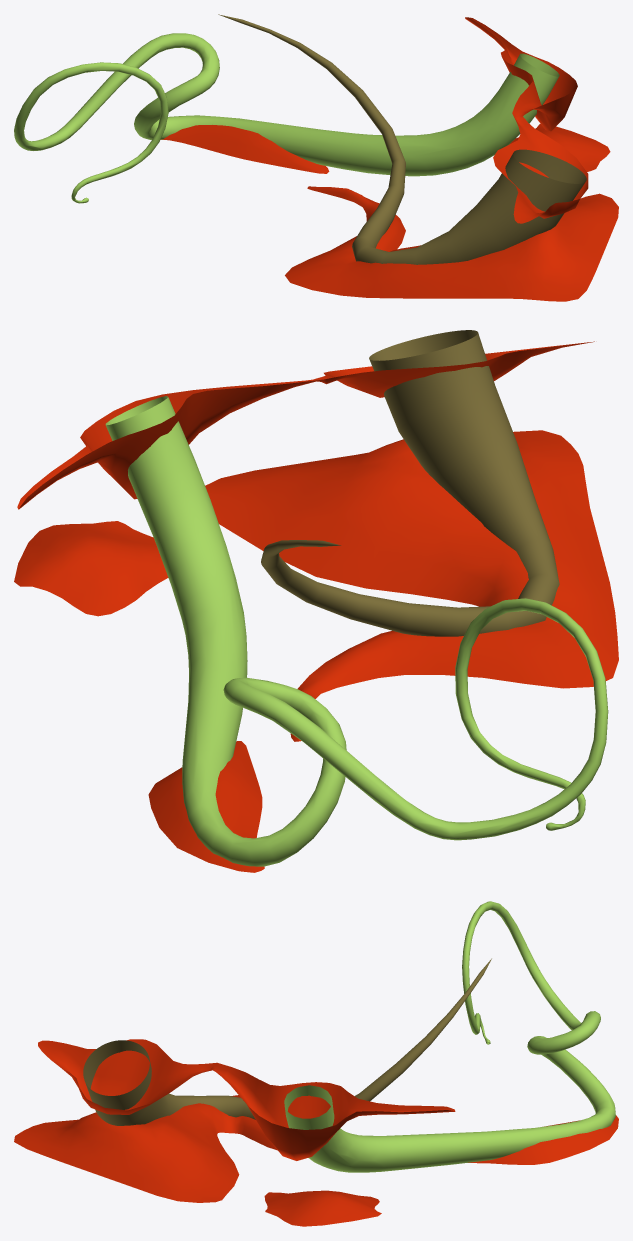
The model's file is Roots_03.fbx.
3 views of the same model, one above another, from view 1: azimuth 30°, elevation 25°; view 2: azimuth 150°, elevation 25°; view 3: azimuth 270°, elevation 25° (orthographic). The views are drawn at different scales.
Parts seen in each view (by area): view 1: Grabel_3_LOD0, Root_3_LOD0, Root3.1_LOD0; view 2: Grabel_3_LOD0, Root_3_LOD0, Root3.1_LOD0; view 3: Grabel_3_LOD0, Root_3_LOD0, Root3.1_LOD0.
Part boxes in pixels (<box>): Grabel_3_LOD0: <box>161,17,618,301</box>; Root_3_LOD0: <box>14,33,559,203</box>; Root3.1_LOD0: <box>218,14,586,264</box>; Grabel_3_LOD0: <box>14,341,618,872</box>; Root_3_LOD0: <box>105,396,608,866</box>; Root3.1_LOD0: <box>261,330,559,636</box>; Grabel_3_LOD0: <box>14,1039,618,1226</box>; Root_3_LOD0: <box>284,901,615,1172</box>; Root3.1_LOD0: <box>83,958,491,1125</box>.
Size of what is drawn, in the model's own units: 4980 by 1683 by 5588.
